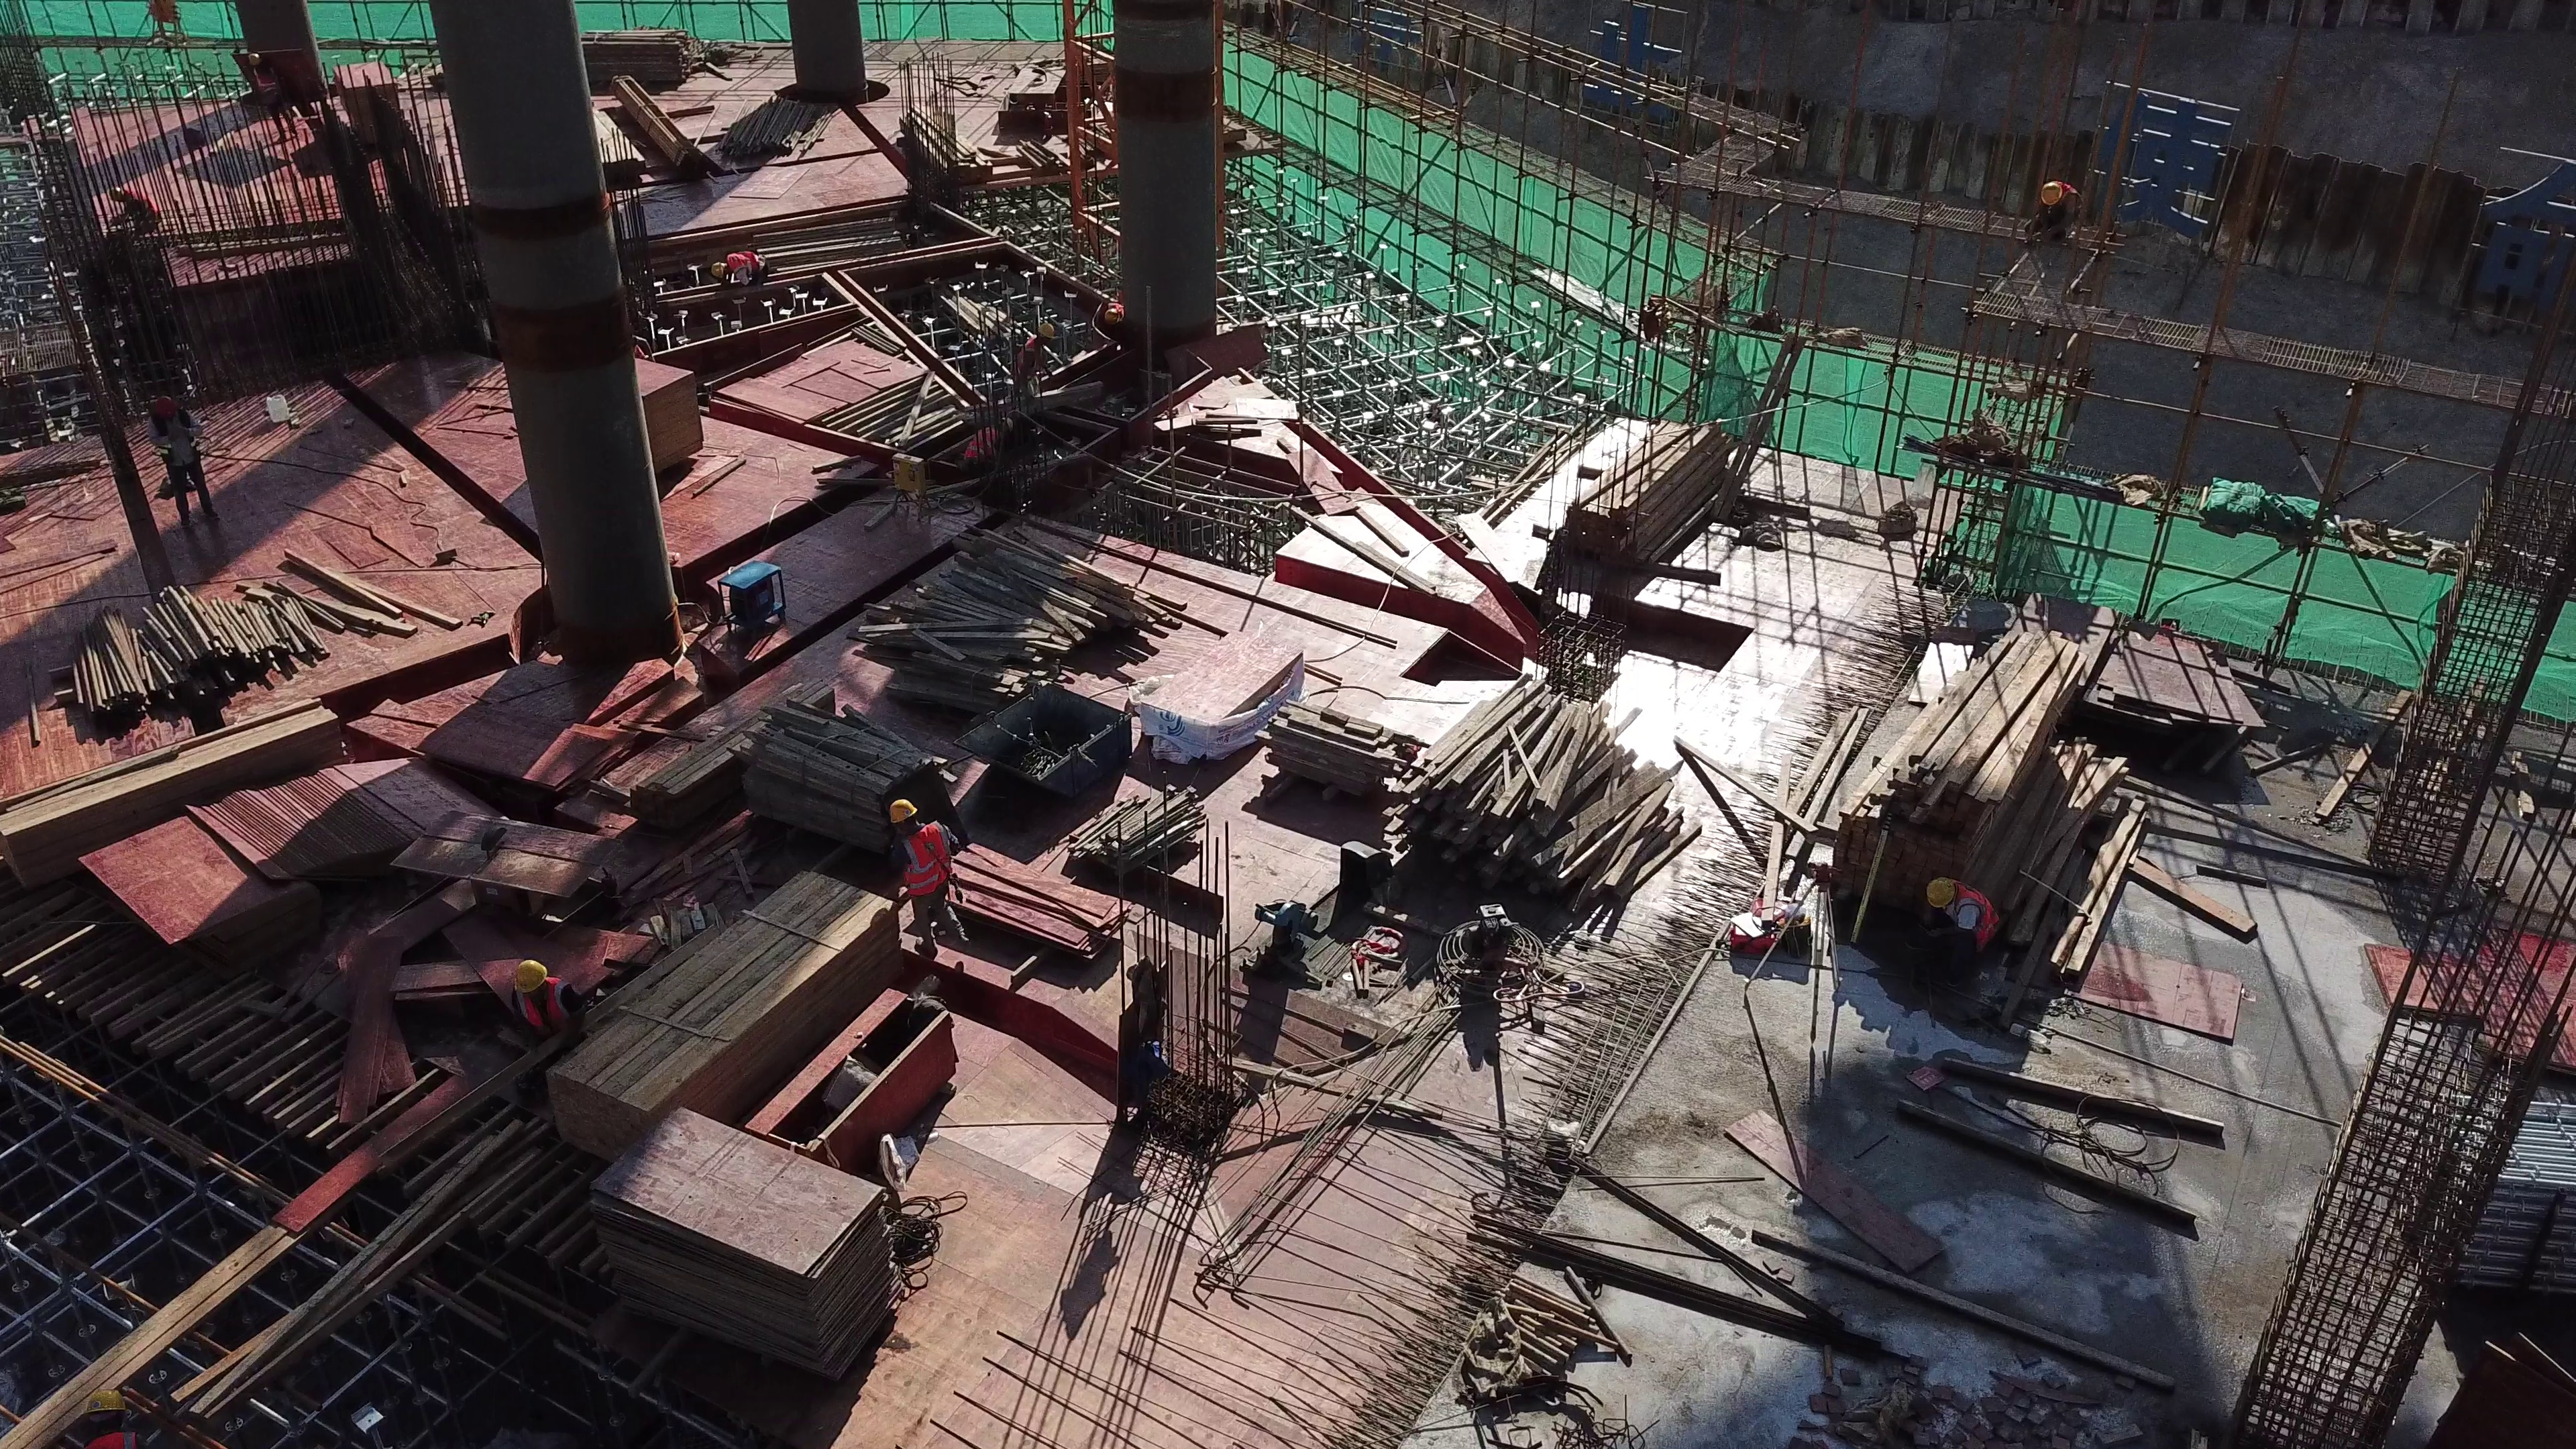board: (588, 1105, 908, 1382), (185, 759, 504, 890), (74, 808, 321, 971), (956, 835, 1132, 959), (1130, 630, 1301, 758)
cutter: (1248, 896, 1317, 989)
helmet: (514, 958, 548, 995), (1925, 876, 1957, 909), (890, 799, 916, 826), (2040, 180, 2063, 206), (1038, 321, 1055, 339), (1104, 307, 1119, 327), (710, 260, 723, 278)
hopper: (953, 682, 1131, 802)
person: (883, 794, 969, 961), (1904, 874, 2002, 987), (144, 393, 224, 527), (506, 958, 586, 1044), (2025, 178, 2083, 244), (1012, 321, 1054, 398), (709, 248, 770, 293), (103, 184, 160, 231), (965, 417, 1016, 463)
scaffold: (2459, 1104, 2576, 1297)
vest: (904, 820, 949, 898), (1954, 881, 2000, 953), (519, 976, 572, 1035), (725, 250, 766, 281)
wood: (545, 872, 904, 1171), (1839, 629, 2131, 914), (850, 519, 1189, 704), (1397, 677, 1676, 898), (733, 695, 936, 849), (630, 684, 835, 832), (1568, 415, 1739, 561), (1264, 698, 1401, 788)
